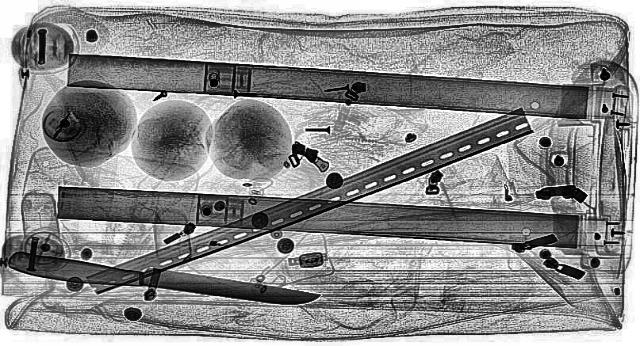Knife: (1, 250, 321, 312)
